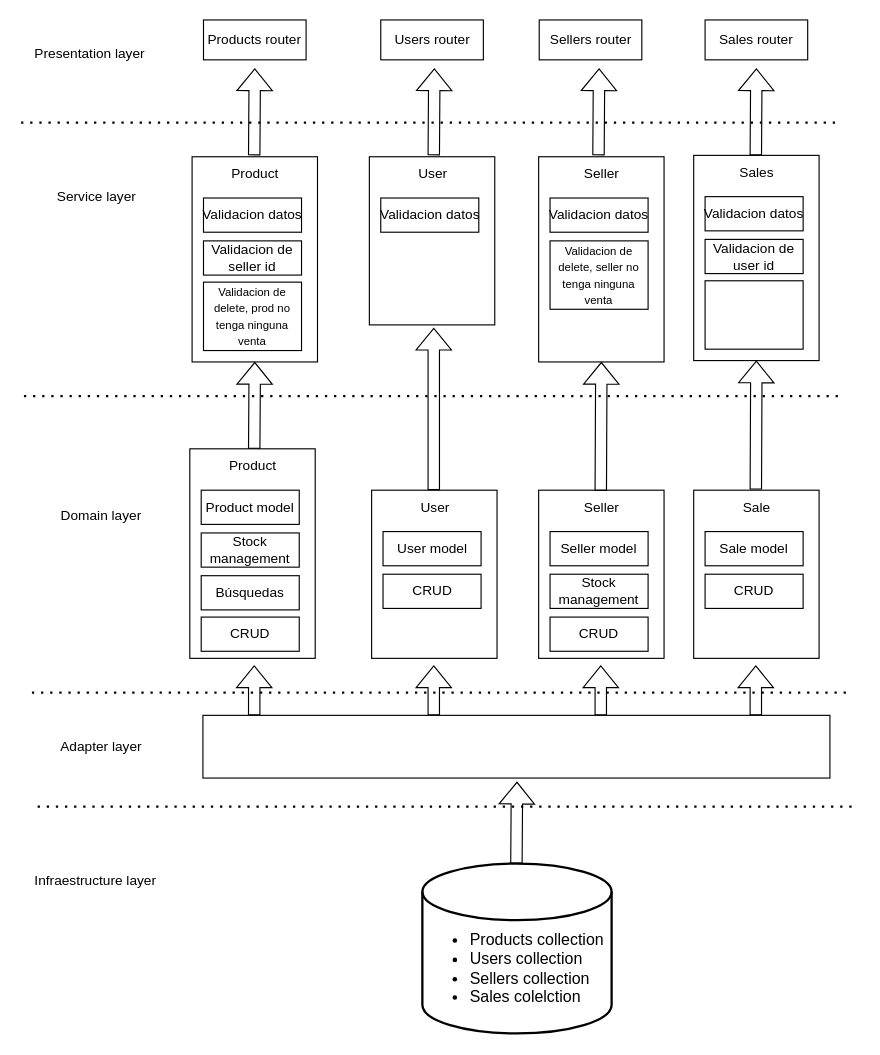
This 880x1055 diagram has some shape labels left out. Here are the shapes that lost their labels. From the top down, the box of each, then its label:
(704, 280, 803, 349): Validacion de stock para realizar compra
(202, 714, 830, 778): Repositories implementation
